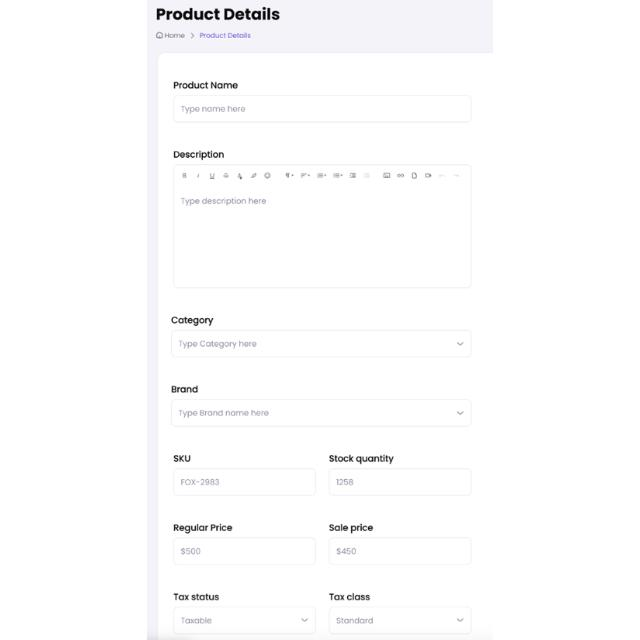QLabel: (156, 7, 280, 20), (172, 80, 238, 90), (329, 454, 395, 464), (173, 523, 233, 533), (172, 150, 225, 160), (329, 524, 373, 534), (170, 316, 213, 326), (172, 593, 220, 601), (329, 593, 371, 601), (170, 385, 198, 393), (173, 454, 191, 462)
VBreadcrumbs: (155, 31, 253, 41)
VCard: (157, 52, 493, 640)
VCombobox: (171, 328, 474, 358), (171, 398, 474, 428), (329, 606, 473, 634), (173, 606, 317, 634)
VTextField: (172, 95, 473, 123), (173, 536, 317, 566), (329, 536, 473, 566), (173, 468, 317, 497), (329, 468, 473, 496)
VTextarea: (172, 163, 473, 289)
